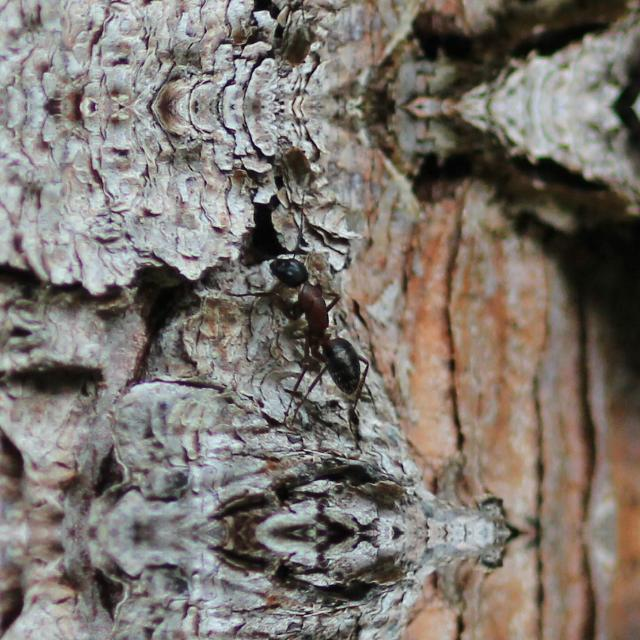Camponotus: (226, 222, 400, 406)
